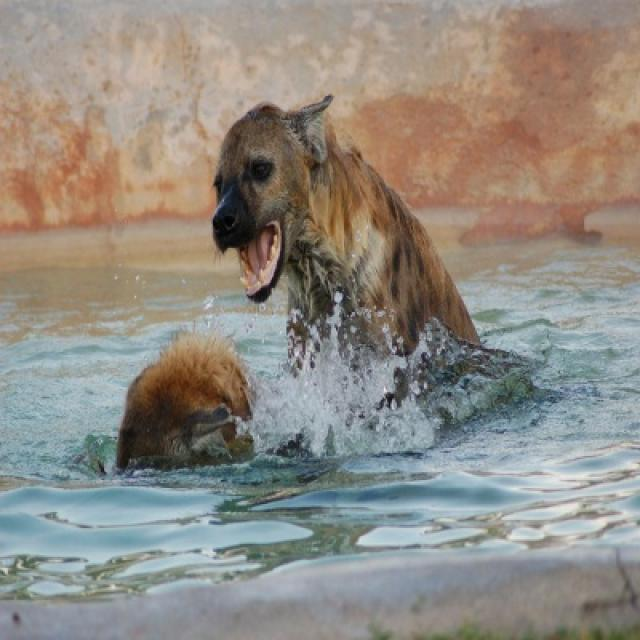hyena: (210, 96, 485, 363)
